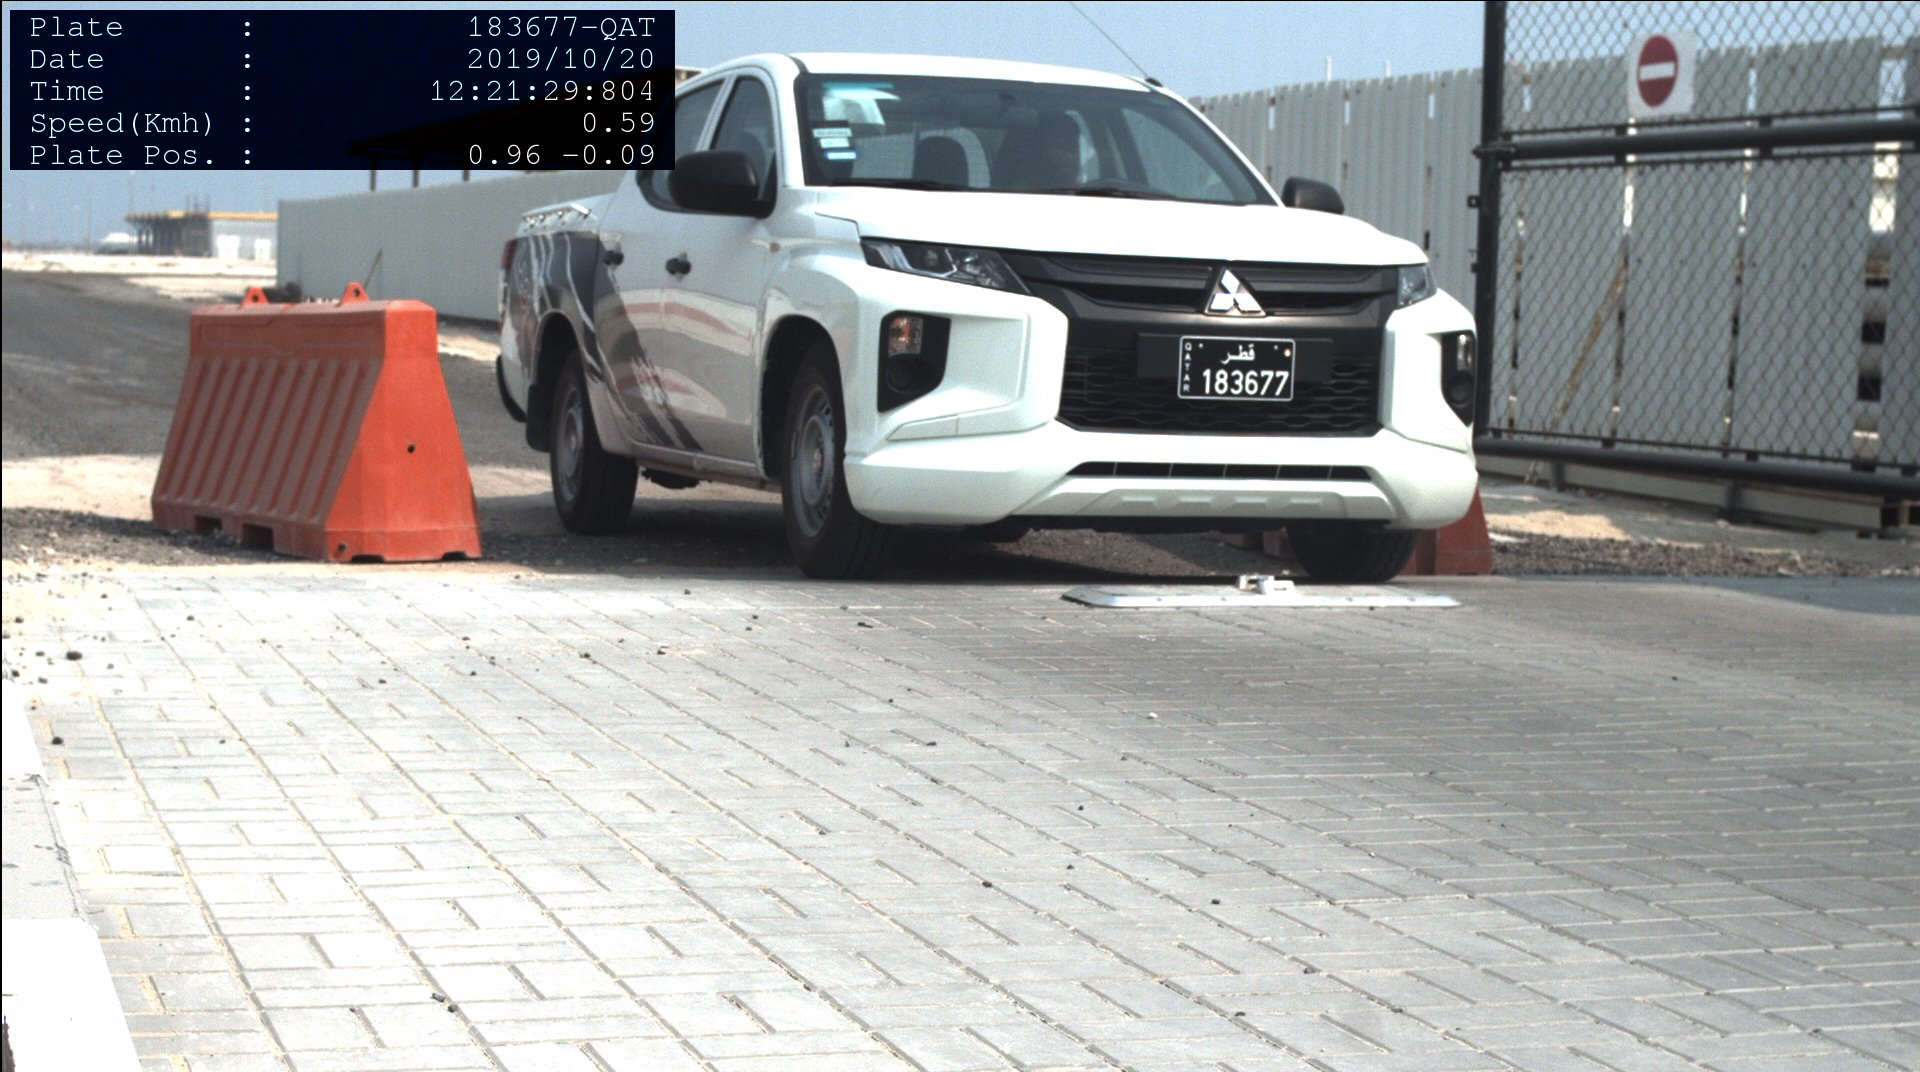License Plate: (1181, 340, 1293, 402)
